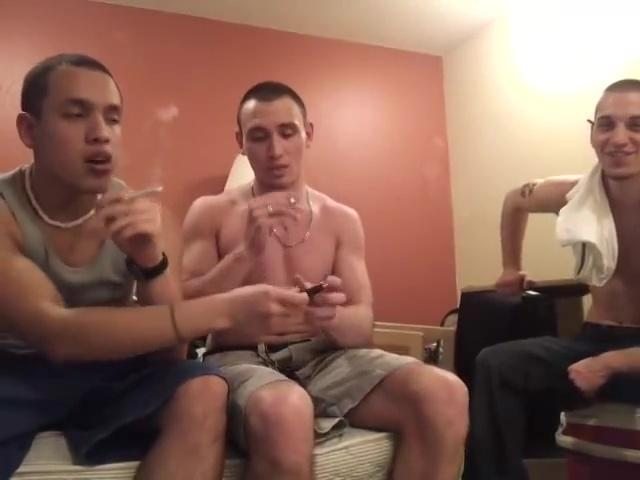cigarette: (121, 180, 166, 205), (287, 195, 299, 209)
